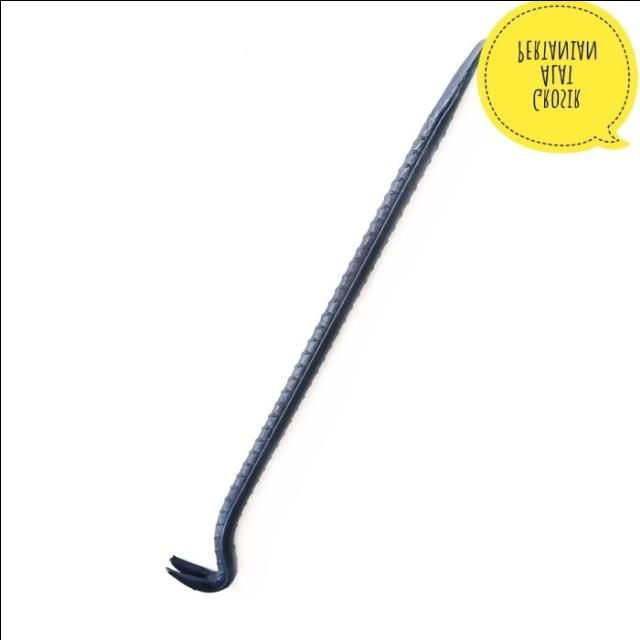Linggis: (166, 39, 492, 597)
